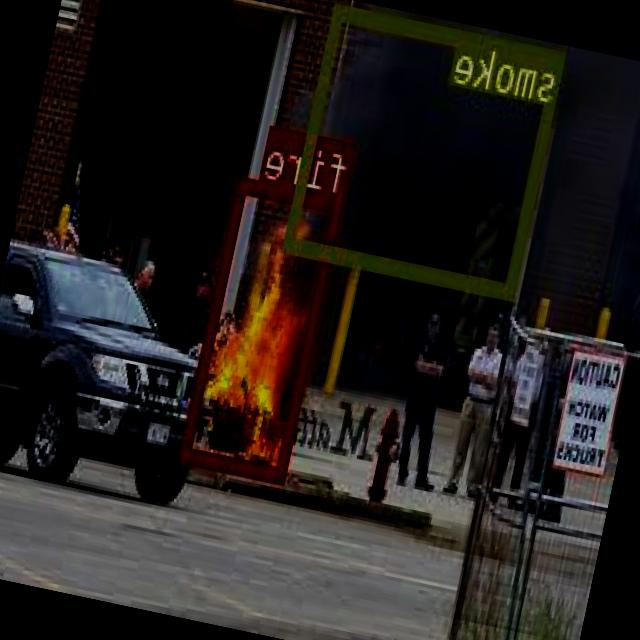fire: (180, 176, 347, 482)
smoke: (284, 3, 566, 296)
